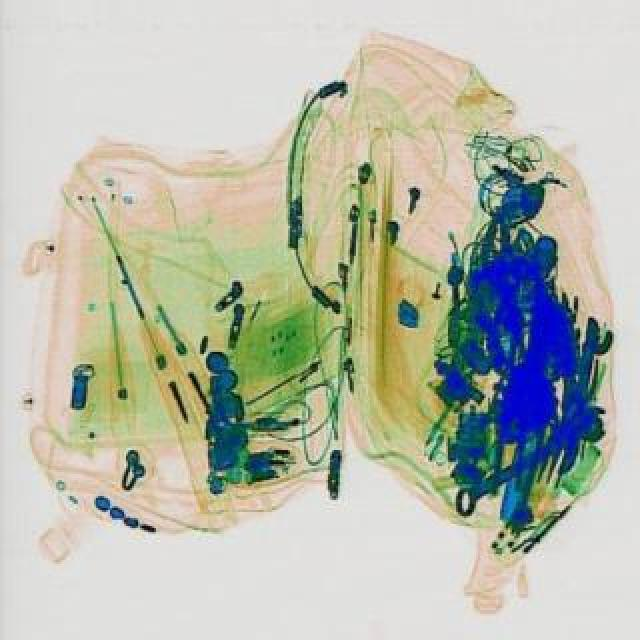scissors: (442, 394, 618, 518)
